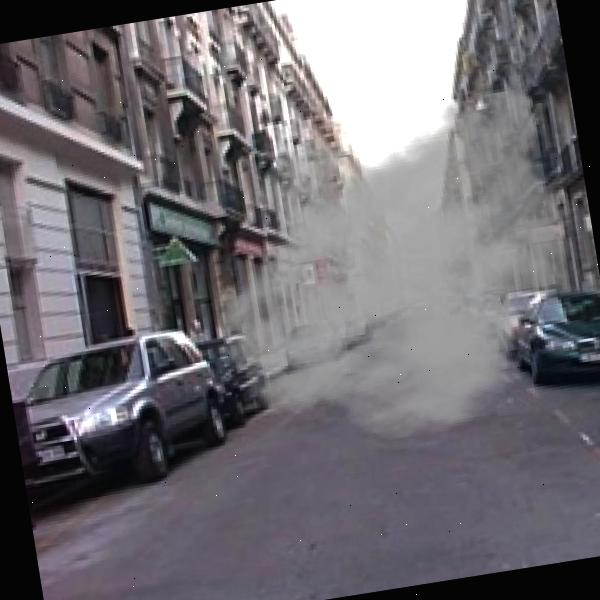smoke: (172, 64, 600, 468)
